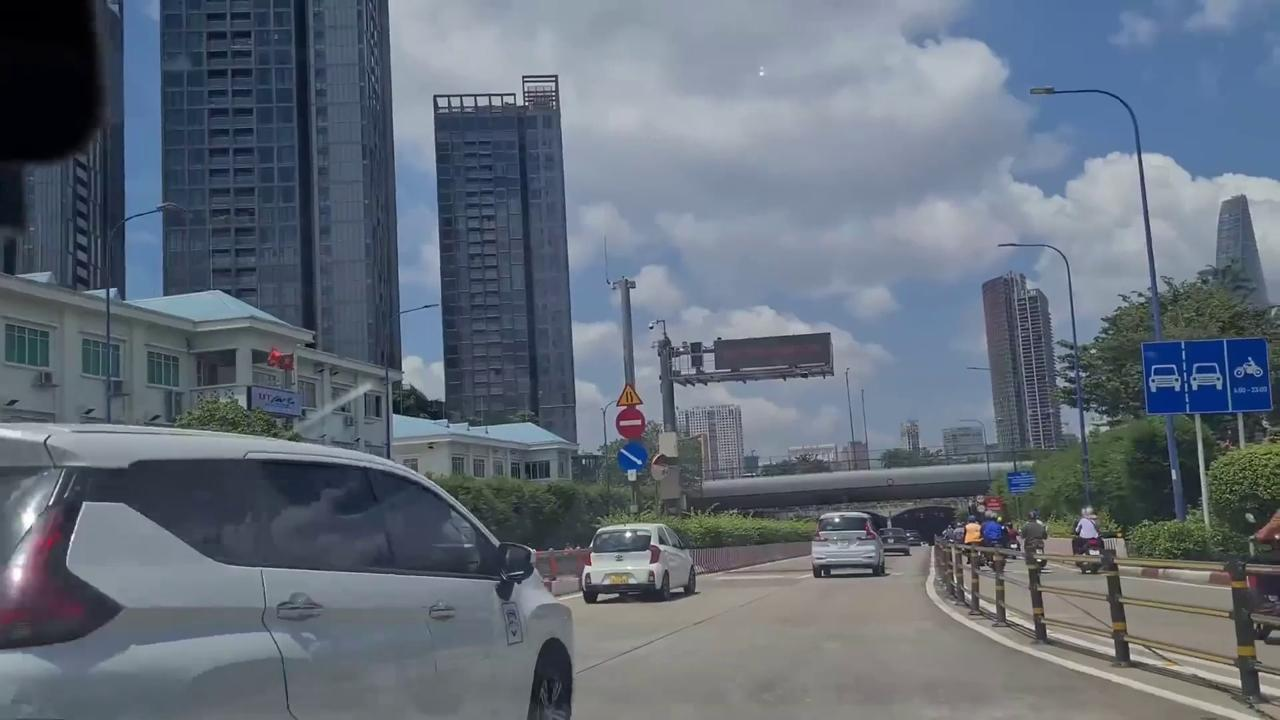Cấm đi ngược chiều: (614, 406, 646, 440)
Hướng phải đi vòng sang phải: (616, 441, 648, 473)
Làn đường cho từng xe: (1139, 333, 1273, 417)
Đuờng hẹp: (615, 383, 644, 407)
